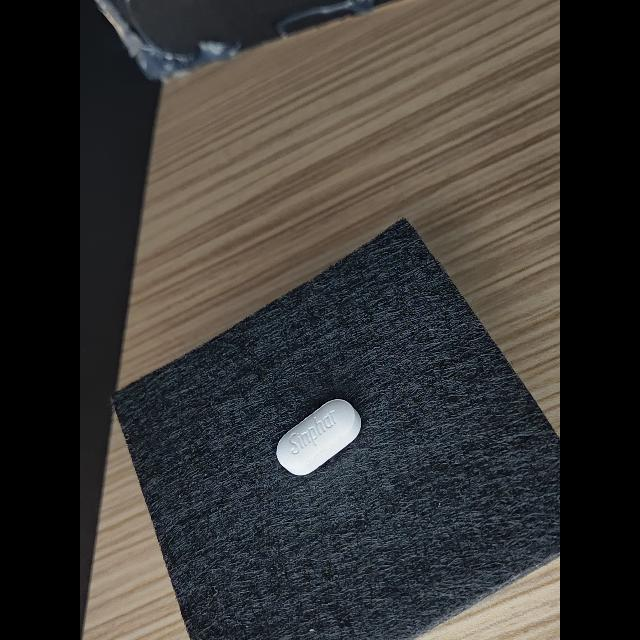Intact Pill: (276, 399, 361, 475)
